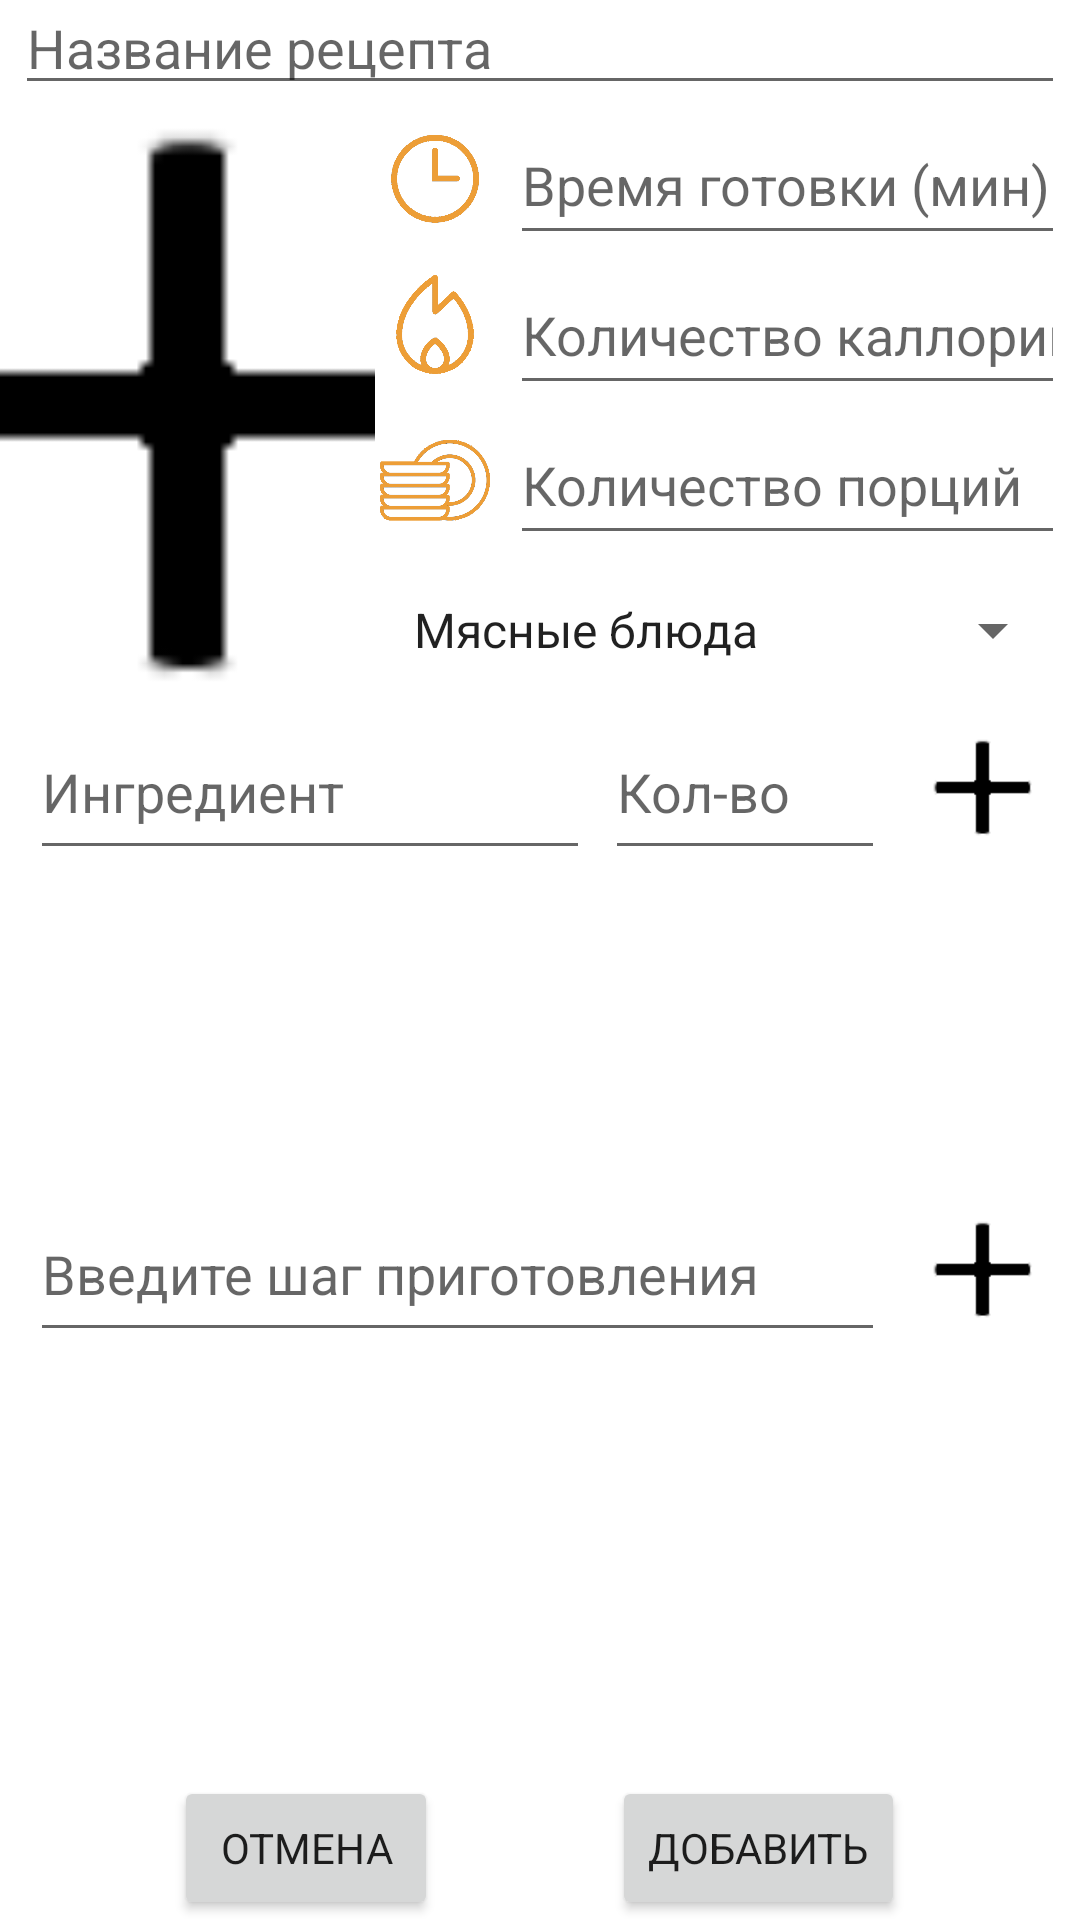

Icons on this 1080 x 1920 Android screen, each with the point to tap as (x,y):
clocks: (435,179)
kcal: (435,324)
servs: (435,480)
